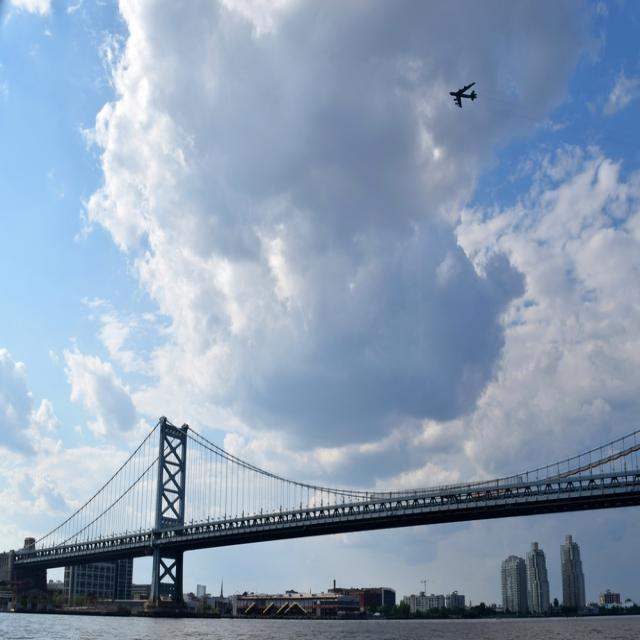MIL_Plane: (458, 72, 468, 80)
